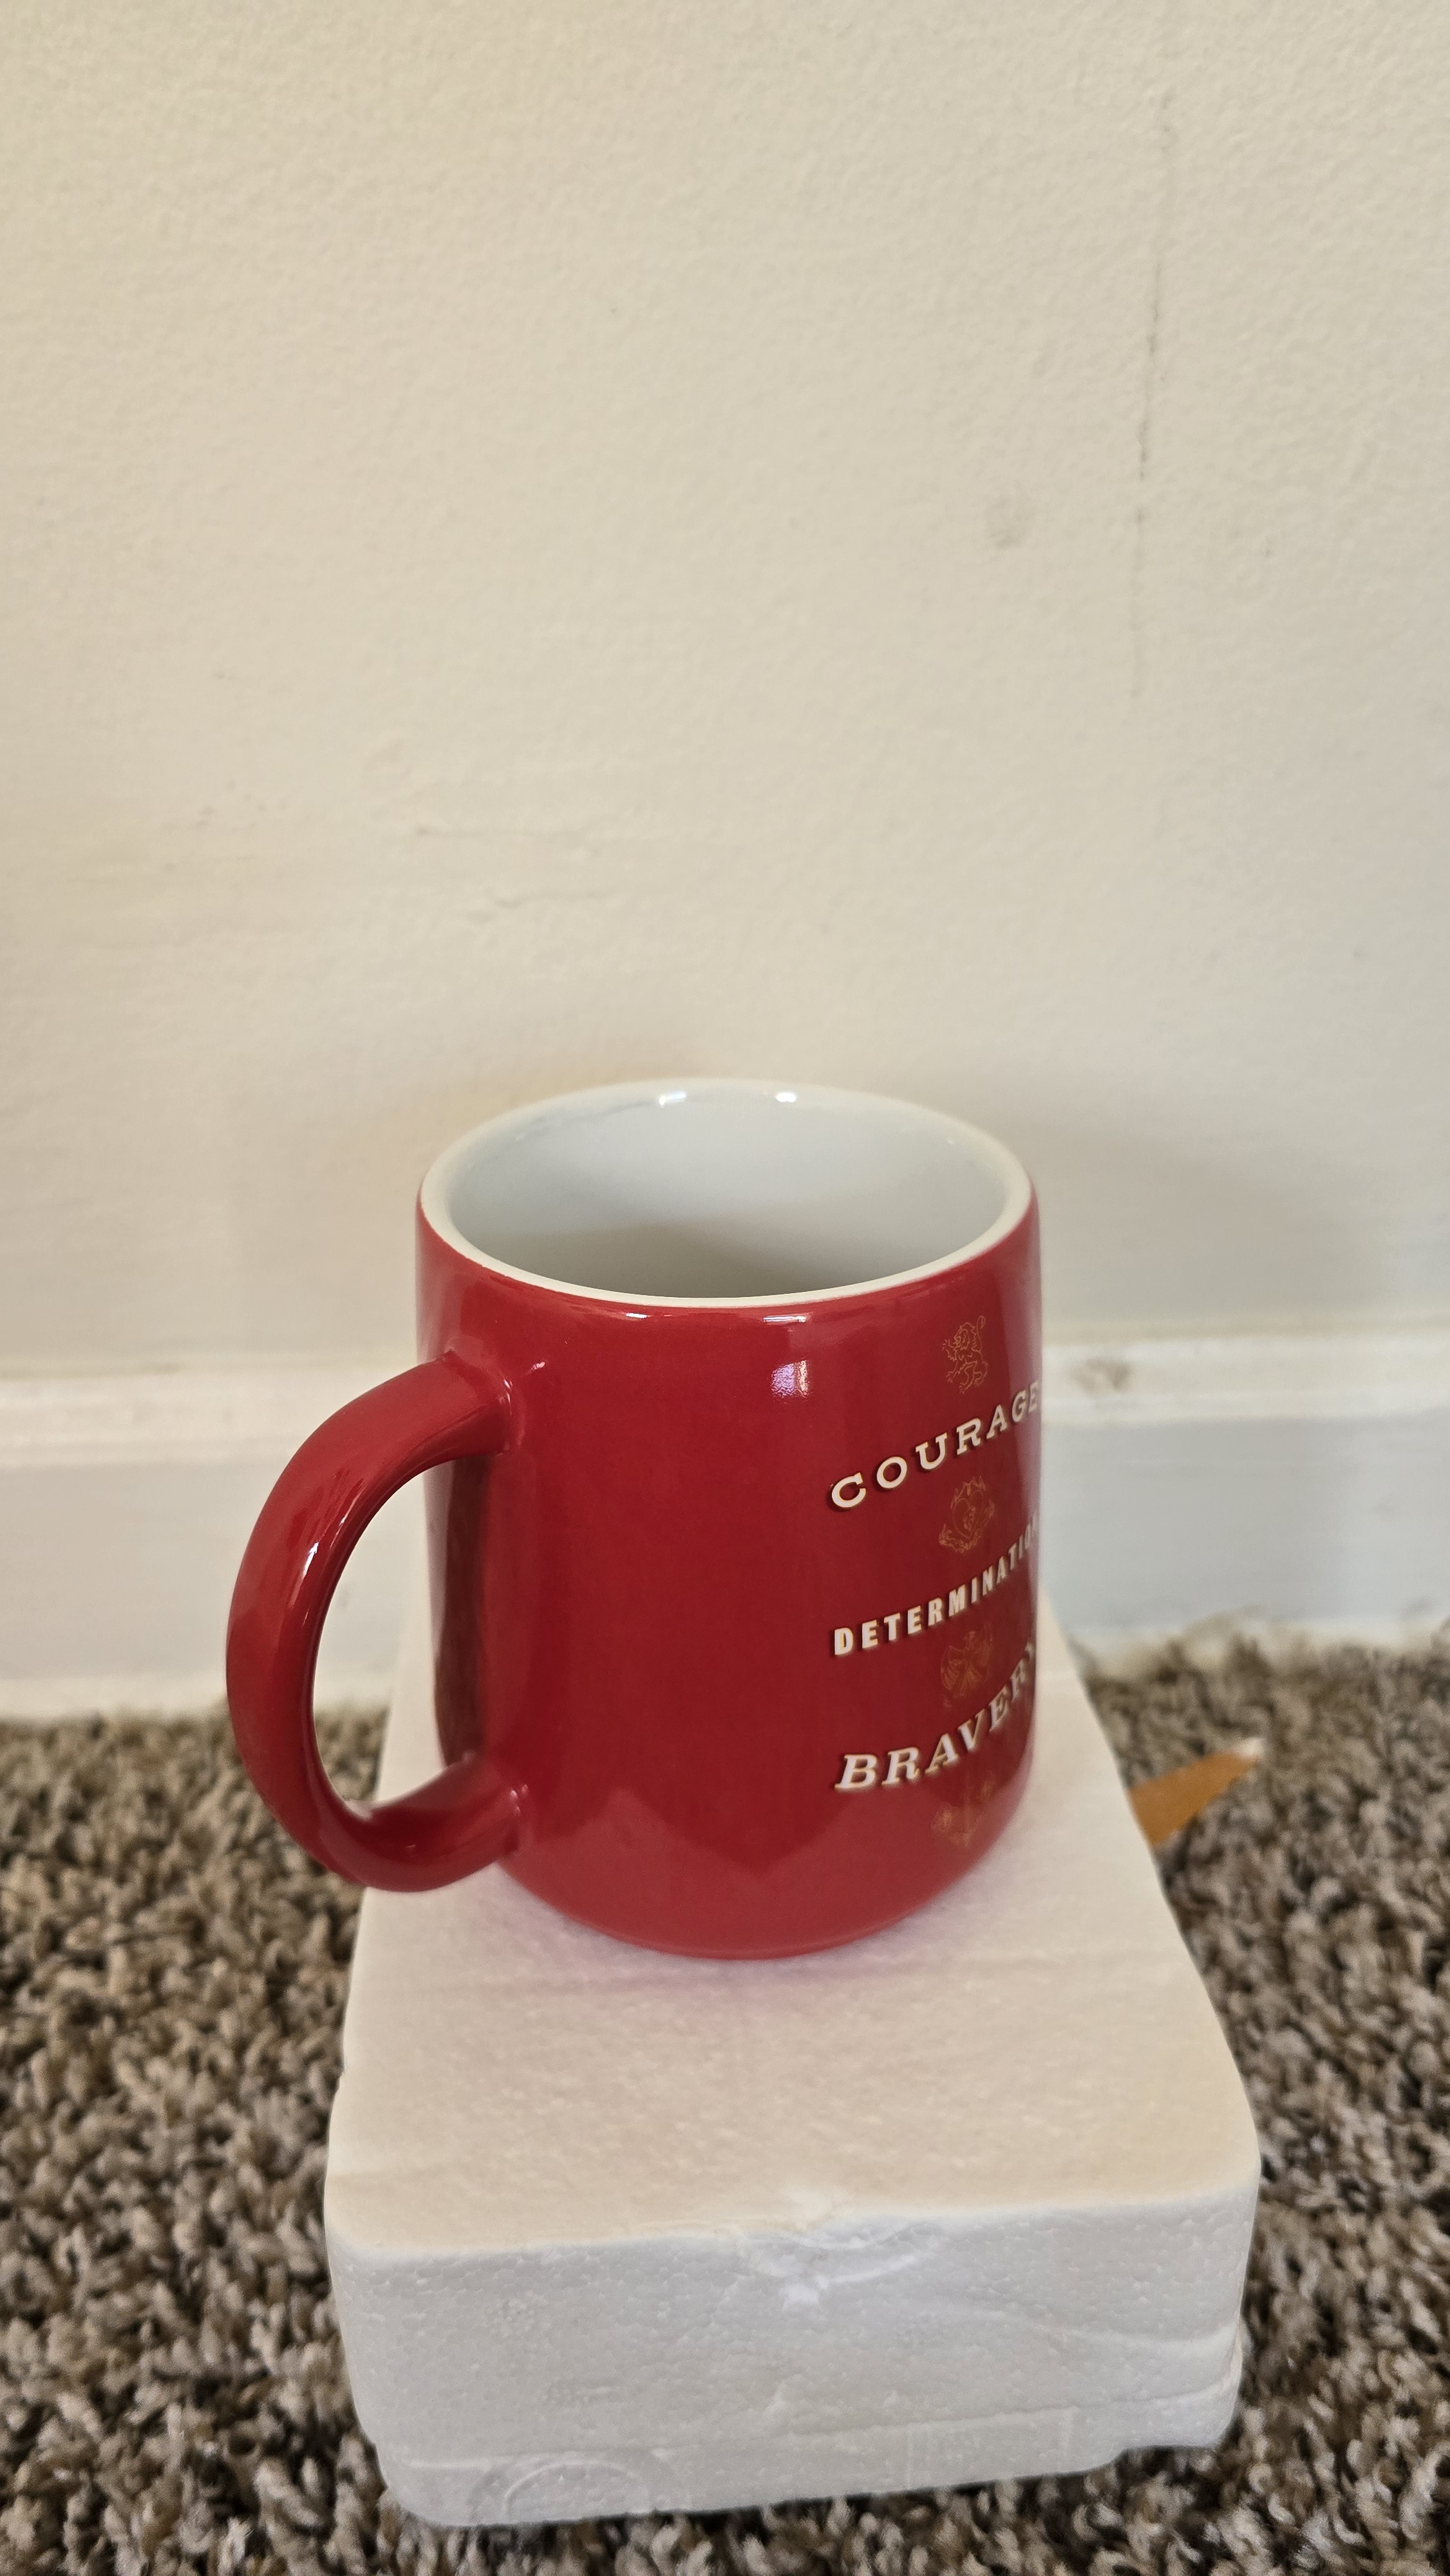mug: (187, 1022, 1169, 1964)
